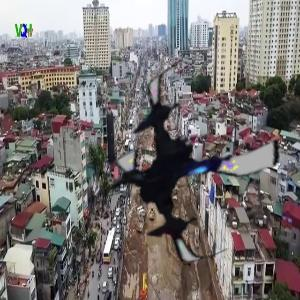drone: (92, 59, 298, 265)
